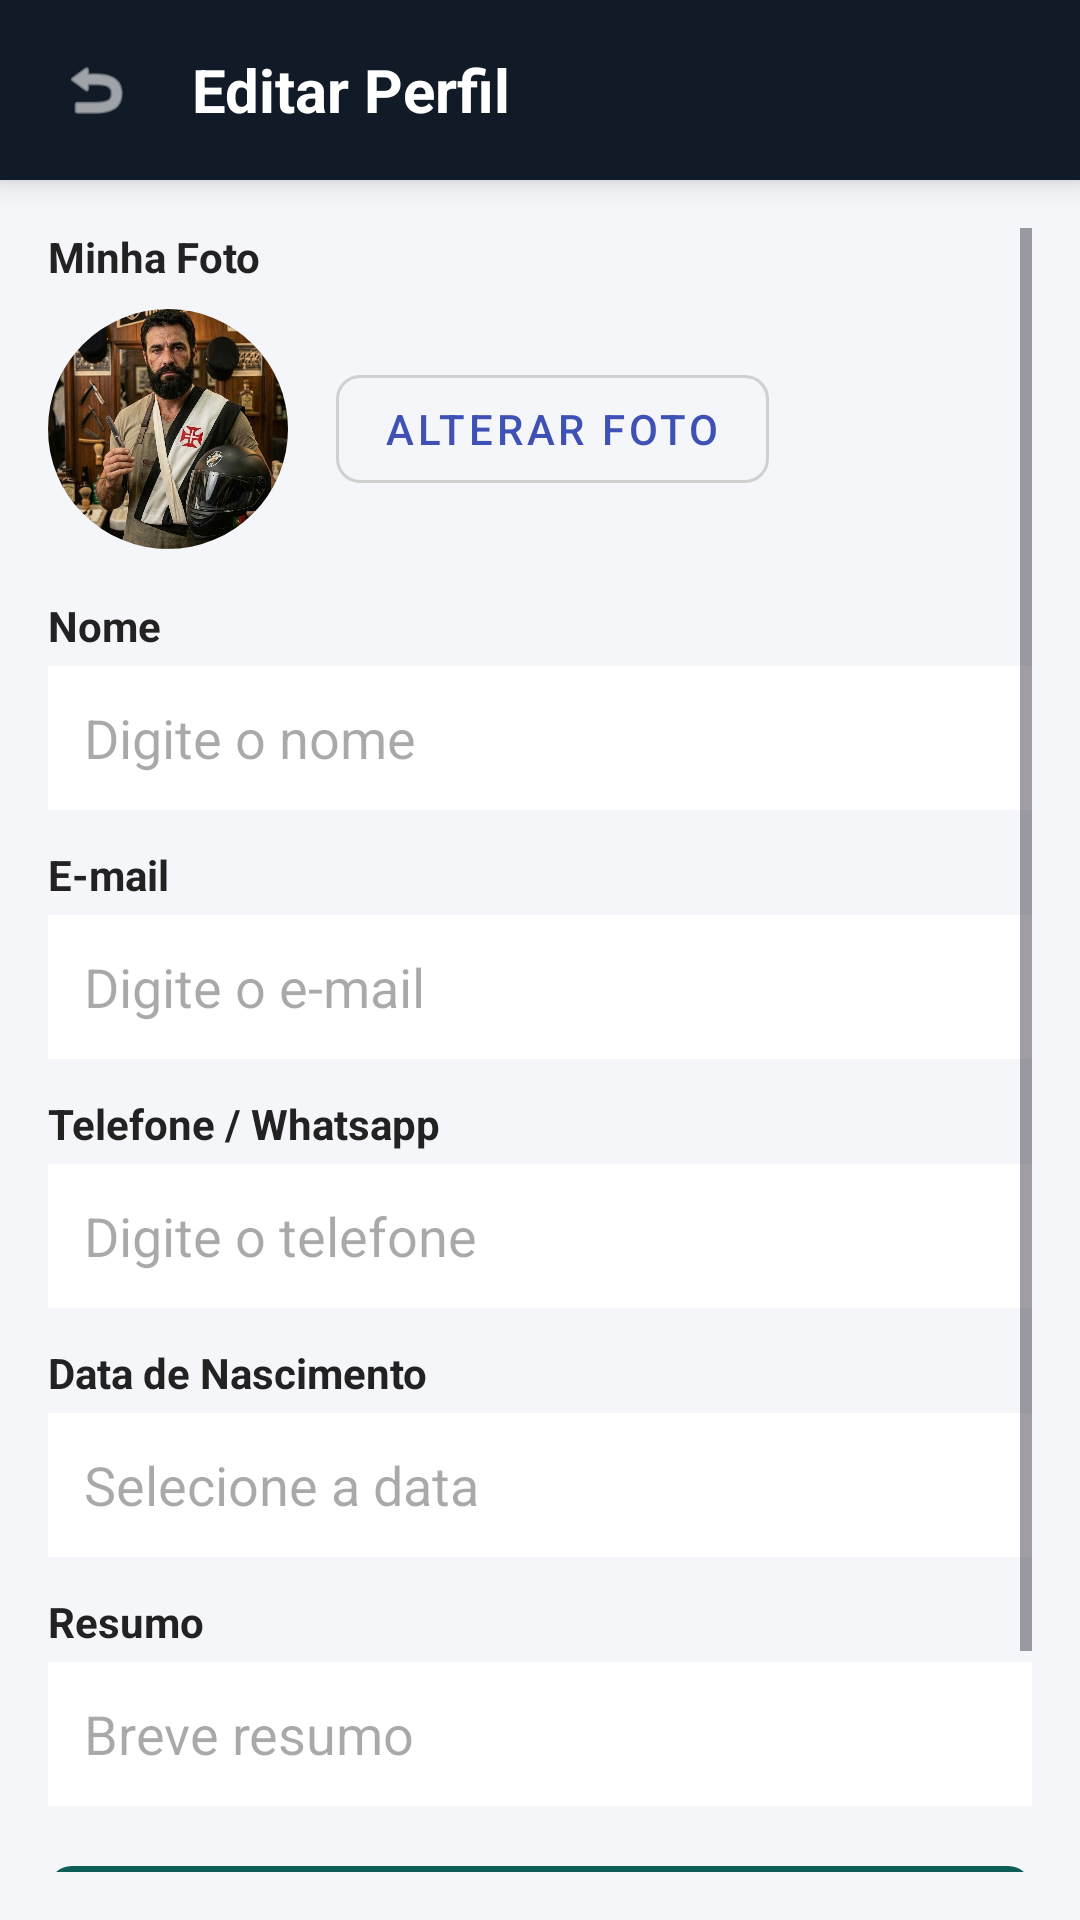

Icon click points for this 1080w x 1920h phone screenshot, format point (x, y):
Voltar: point (97, 90)
